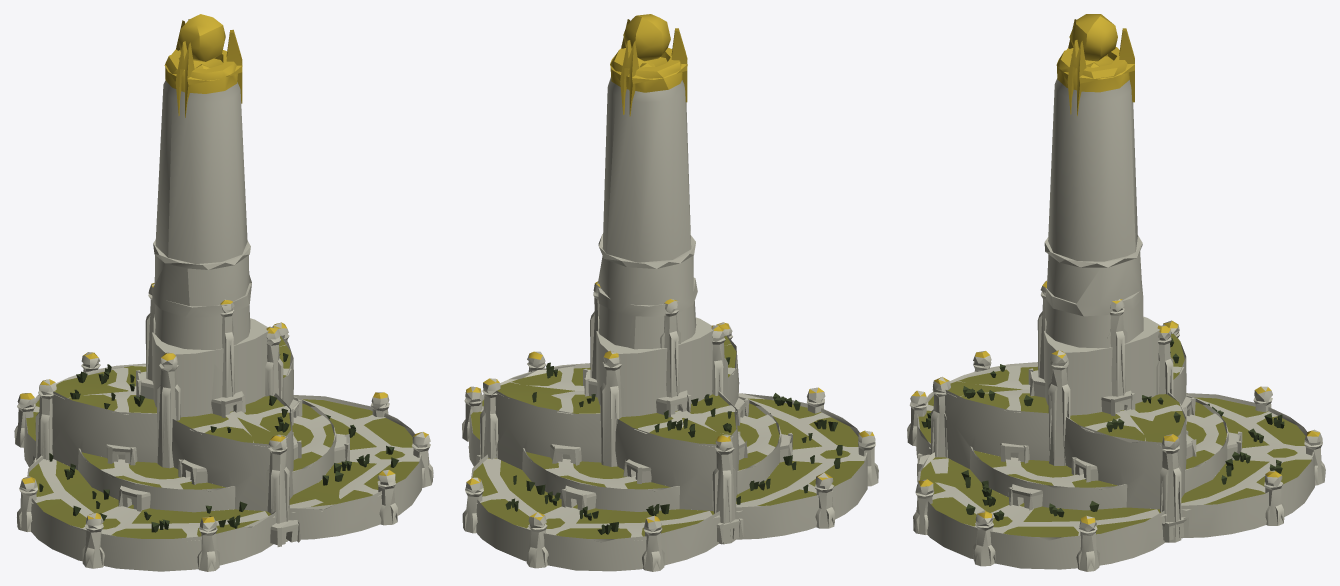
File: hs_lowpoly-transformed.glb
The picture shows the model from 3 angles, left to right: view 1: azimuth 30°, elevation 25°; view 2: azimuth 150°, elevation 25°; view 3: azimuth 270°, elevation 25°; orthographic projection.
Visible parts, largest first — view 1: tower_finished; view 2: tower_finished; view 3: tower_finished.
Part boxes in pixels (x1,y1,x2,y2): tower_finished: (14, 14, 433, 571); tower_finished: (462, 14, 878, 571); tower_finished: (907, 14, 1325, 571).
Bounding box in the file's own units: 3.16 × 3.8 × 3.09.
